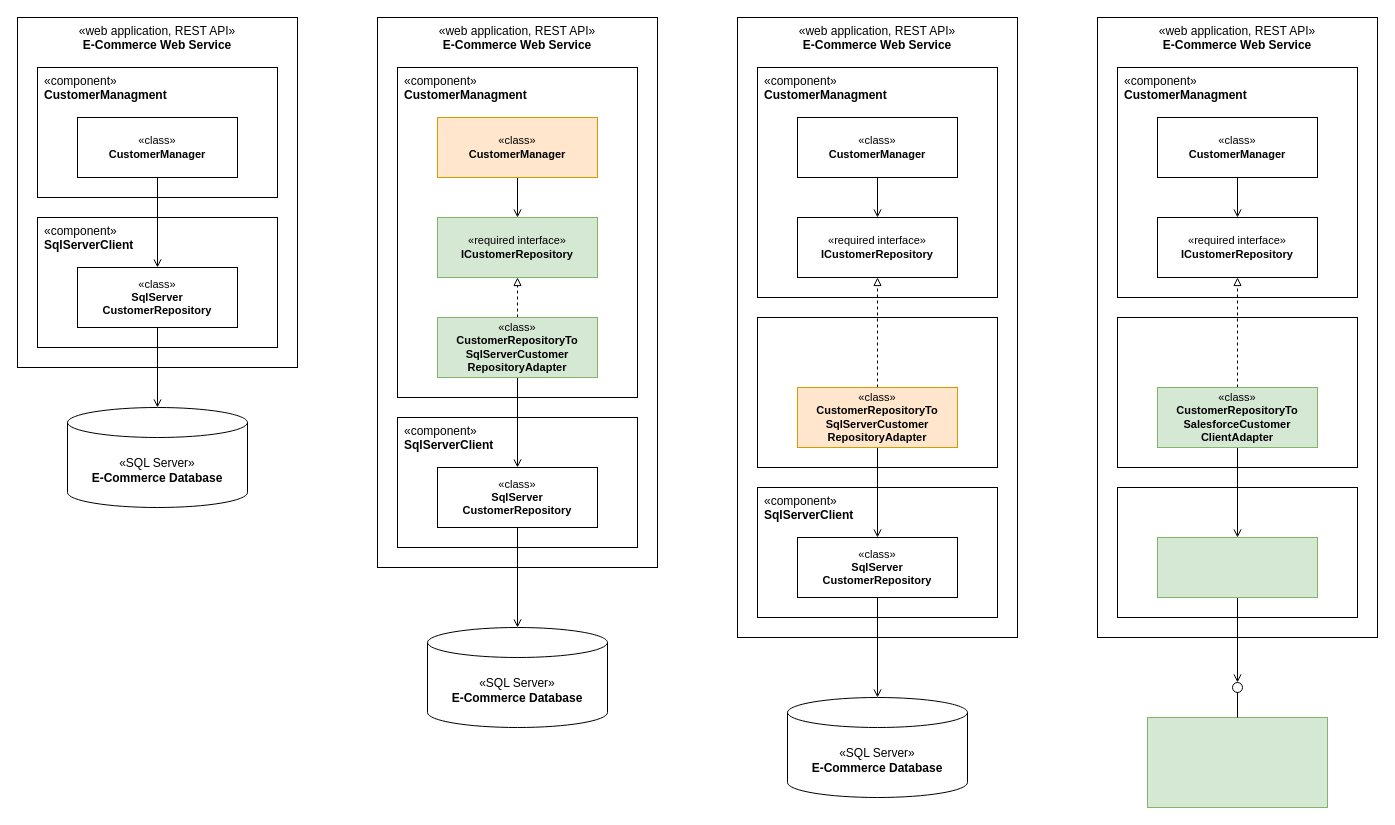
The diagram is 1395 pixels wide and 825 high, and some of its shapes have lost their labels. The box of each missing label's shape, as (x1, y1, x2, y2) in pixels:
«class» Salesforce CustomerClient: (1156, 536, 1318, 598)
«component» CustomerMgmtTo SalesforceClient Adapter: (1116, 316, 1358, 468)
«component» CustomerMgmtTo SqlServerClient Adapter: (756, 316, 998, 468)
«component» SalesforceClient: (1116, 486, 1358, 618)
«crm» Salesforce: (1146, 716, 1328, 808)
